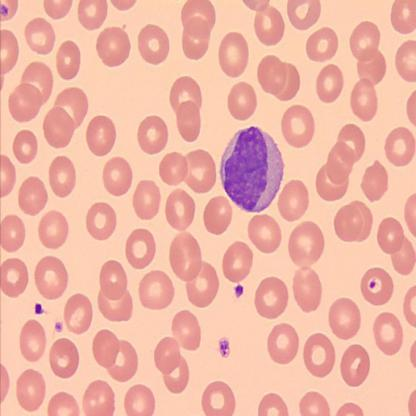Atypical lymphocyte: (218, 127, 283, 213)
